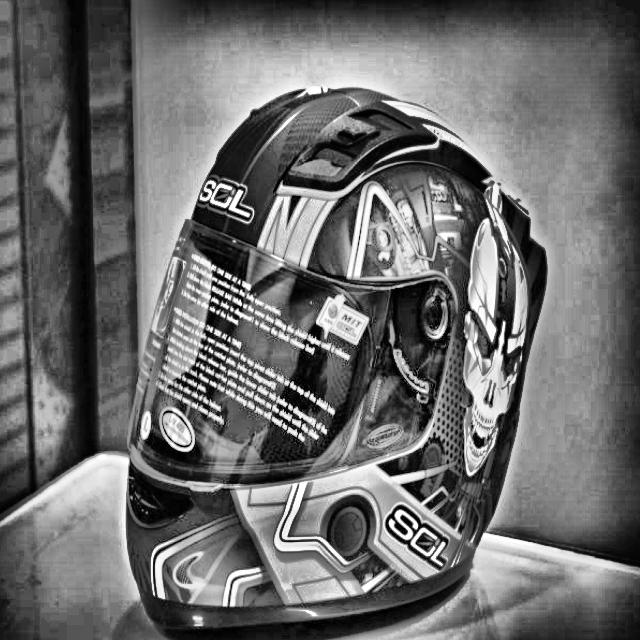Helmet: (121, 74, 551, 640)
